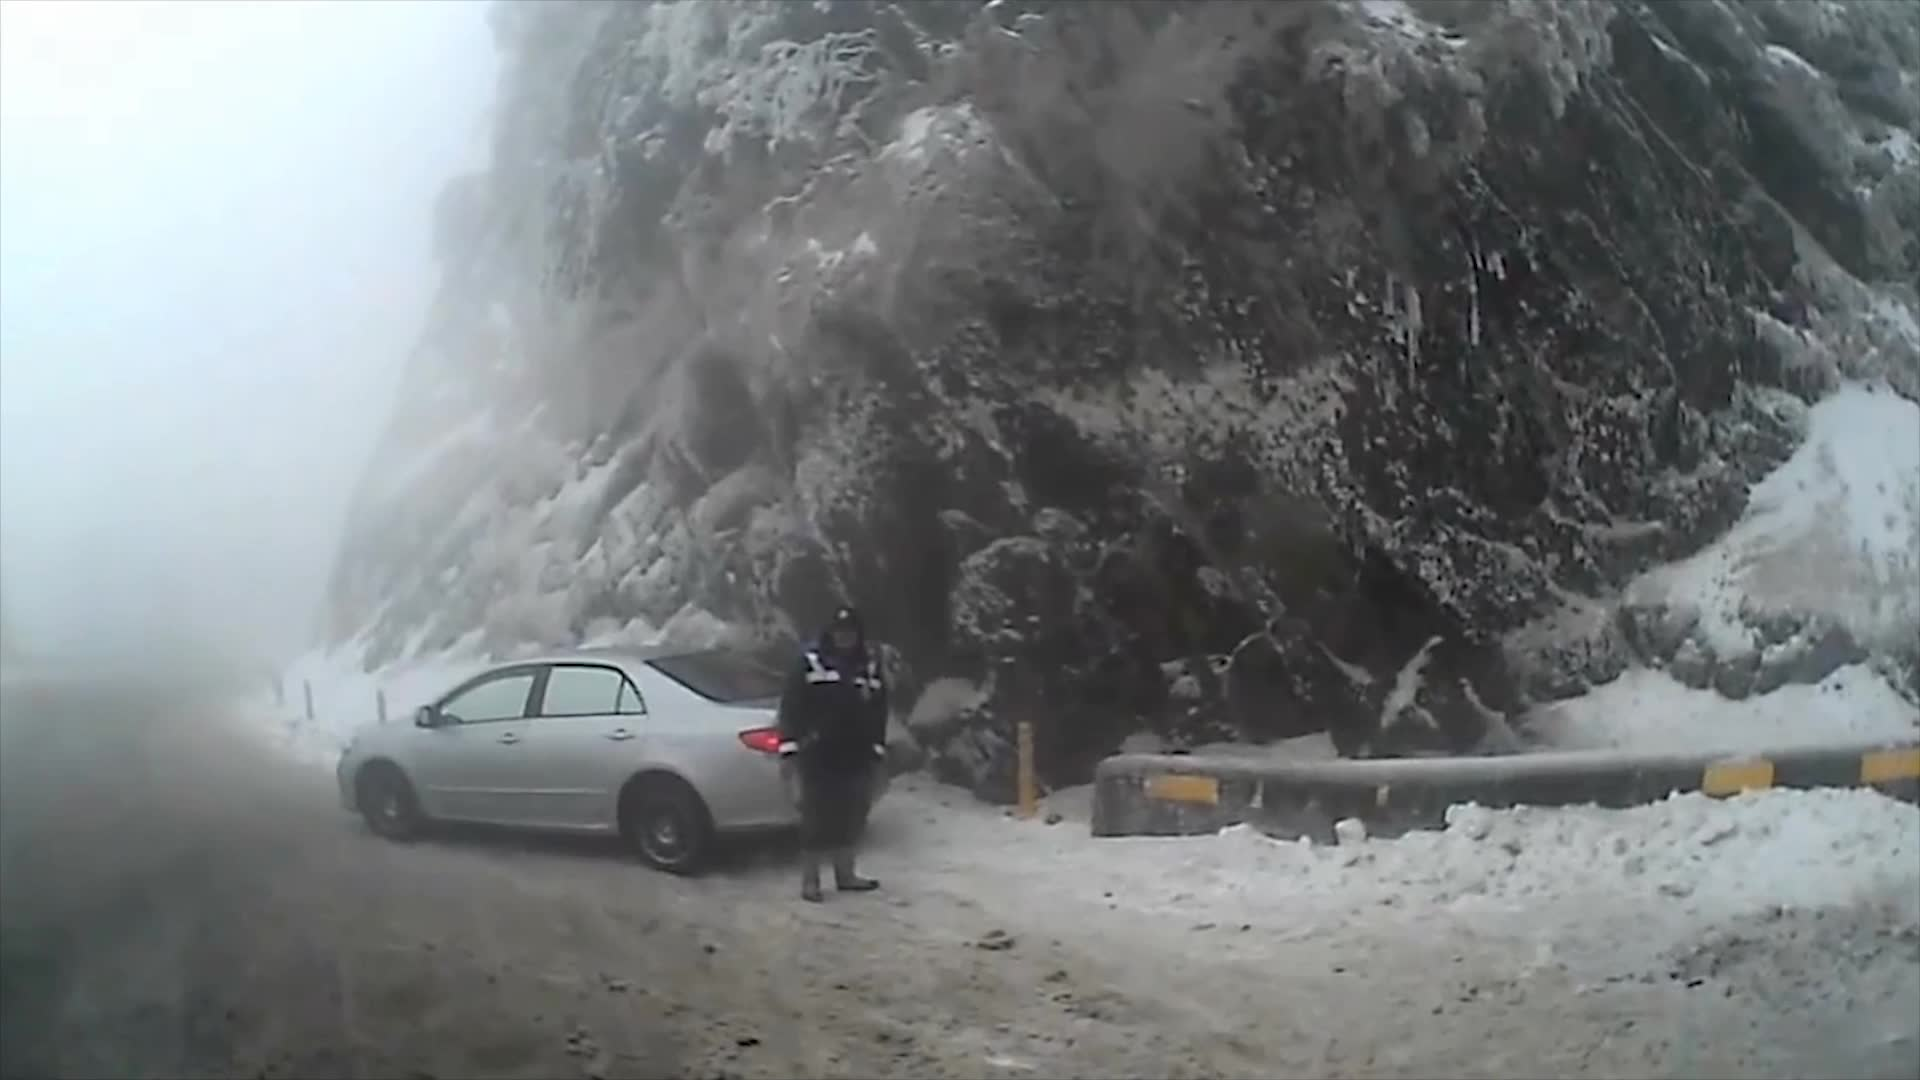pedestrian: (793, 596, 904, 900)
vehicle: (332, 644, 890, 879)
